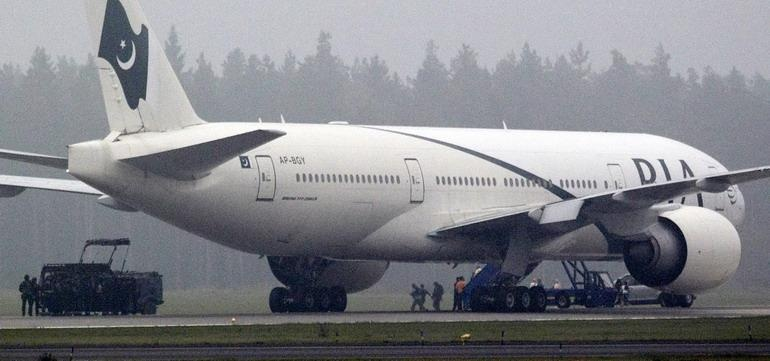airplane: (1, 24, 770, 282)
